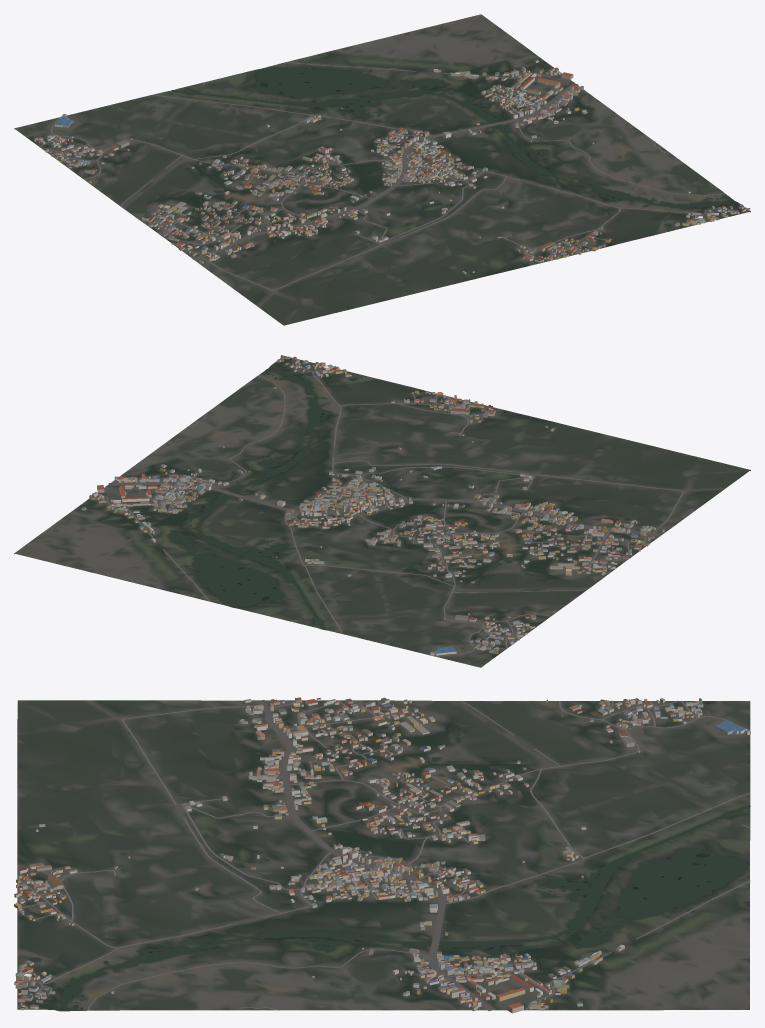
The picture shows the model from 3 angles, top to bottom: view 1: azimuth 30°, elevation 25°; view 2: azimuth 150°, elevation 25°; view 3: azimuth 270°, elevation 25°; orthographic projection. The views are drawn at different scales.
Parts seen in each view (by area): view 1: ground, buildings, water, roads; view 2: ground, buildings, water, roads; view 3: ground, buildings, water, roads.
Part boxes in pixels (x1,y1,x2,y2): ground: (14, 14, 750, 325); buildings: (33, 59, 750, 273); water: (147, 66, 733, 263); roads: (39, 62, 746, 290); ground: (14, 356, 750, 667); buildings: (81, 355, 664, 655); water: (167, 369, 565, 629); roads: (98, 356, 684, 656); ground: (17, 700, 750, 1011); buildings: (14, 697, 750, 1013); water: (24, 717, 750, 1010); roads: (17, 700, 750, 1010).
Size of the model in its own units: 1418 by 18.78 by 1410.
